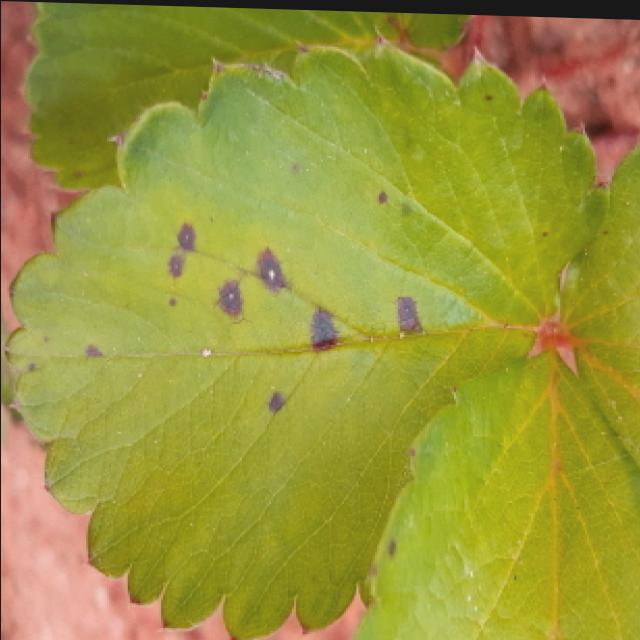Leaf Spot: (4, 37, 607, 640), (354, 346, 640, 640), (556, 136, 640, 464)
